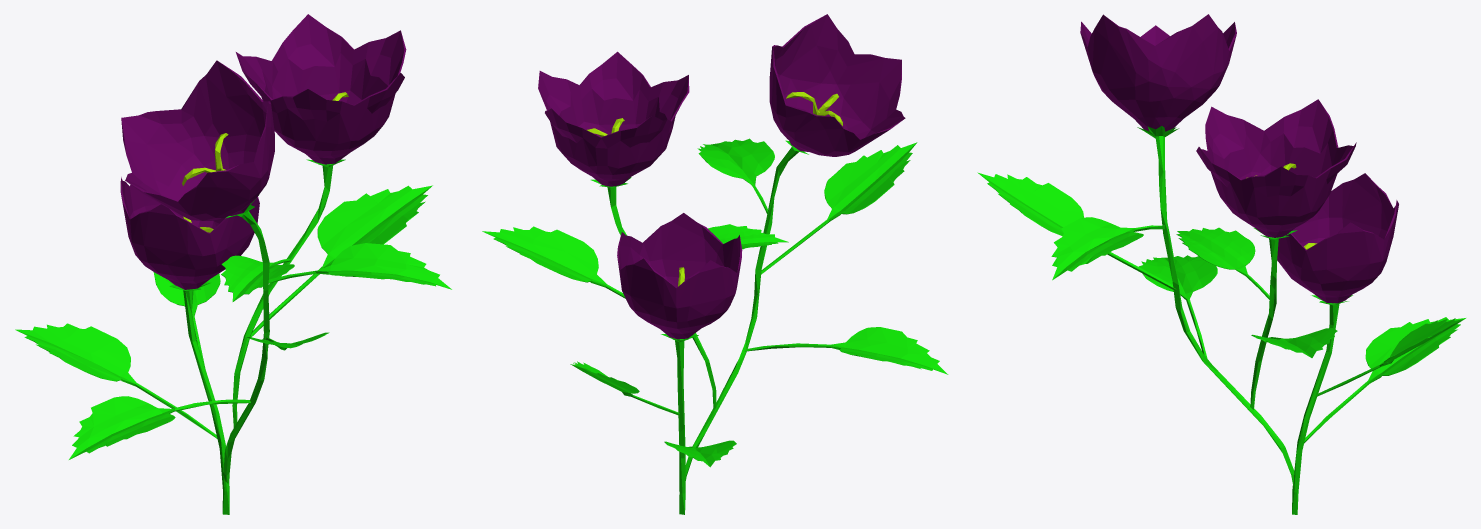
The model's file is Karparten_LP_3.fbx.
3 views of the same model, side by side, from view 1: azimuth 30°, elevation 25°; view 2: azimuth 150°, elevation 25°; view 3: azimuth 270°, elevation 25° (orthographic). The views are drawn at different scales.
Parts seen in each view (by area): view 1: Kaparten_LP.002; view 2: Kaparten_LP.002; view 3: Kaparten_LP.002.
Boxes of the visible parts, <box> form: Kaparten_LP.002: <box>15,14,451,514</box>; Kaparten_LP.002: <box>482,14,948,514</box>; Kaparten_LP.002: <box>977,14,1465,514</box>.
Bounding box in the file's own units: 318 × 344 × 322.
